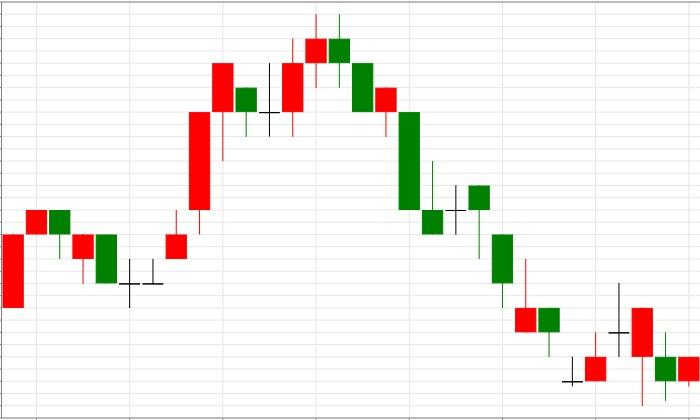inverse_hammer_rise: (399, 112, 536, 332), (329, 13, 443, 234)
